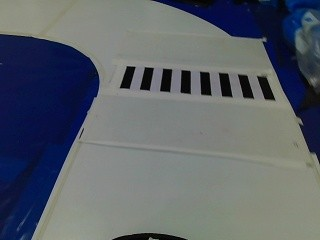crosswalk: (107, 56, 284, 107)
